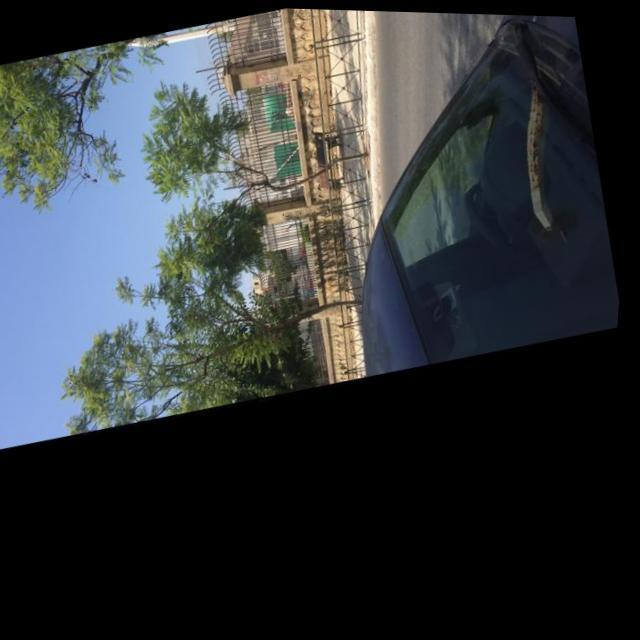-: (285, 206, 310, 220)
